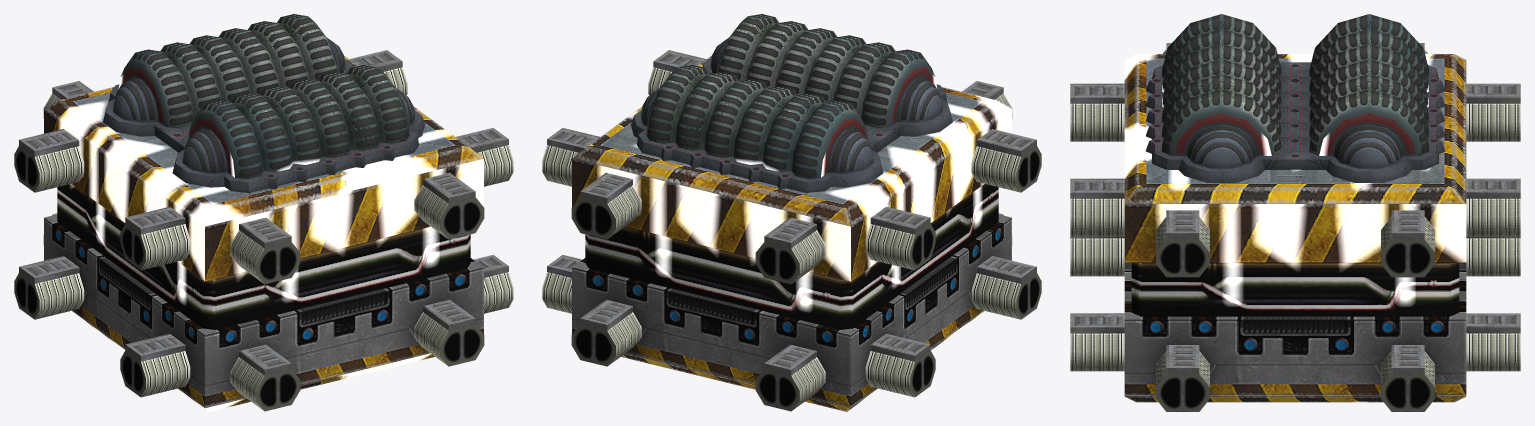
The model's file is Module_Capacitor.dae.
3 renders of one model, left to right at view 1: azimuth 30°, elevation 25°; view 2: azimuth 150°, elevation 25°; view 3: azimuth 270°, elevation 25°, orthographic. The views are drawn at different scales.
Parts seen in each view (by area): view 1: Module_Capacitor; view 2: Module_Capacitor; view 3: Module_Capacitor.
Boxes of the visible parts, bbox=[...] form: Module_Capacitor: bbox=[14, 14, 513, 411]; Module_Capacitor: bbox=[542, 14, 1041, 411]; Module_Capacitor: bbox=[1070, 14, 1520, 411].
Size of the model in its own units: 2 by 1.37 by 2.
